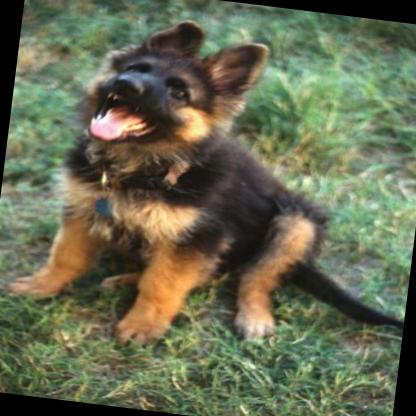German_shepherd: (1, 0, 416, 382)
